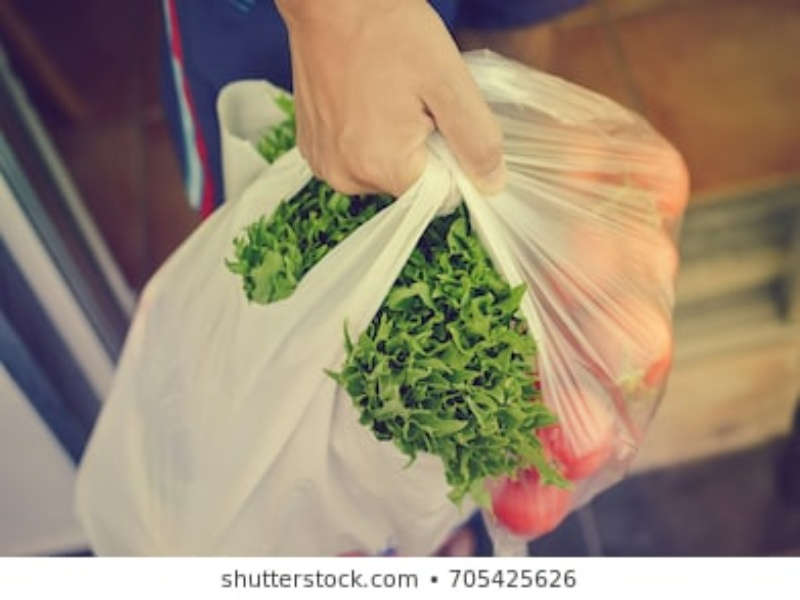plastic-bag: (82, 88, 494, 555), (437, 40, 673, 534)
